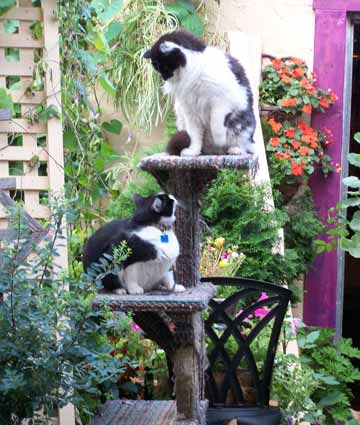cat: (146, 30, 260, 161), (81, 188, 189, 297)
